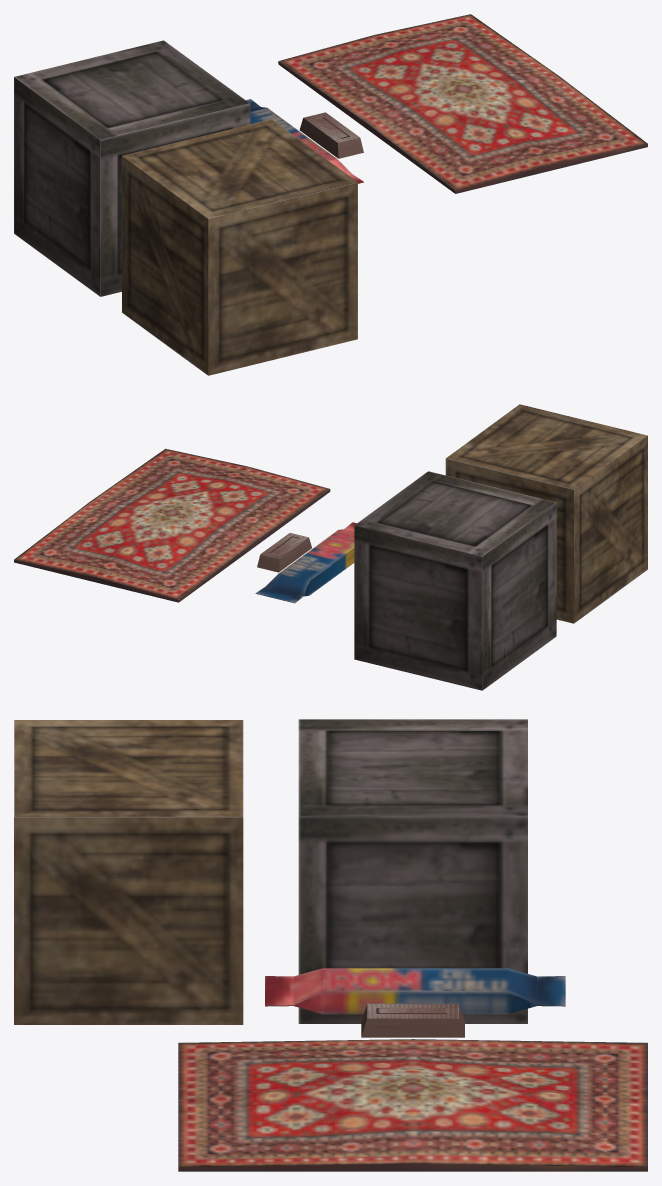
The model's file is items in PS1 style.glb.
3 views of the same model, one above another, from view 1: azimuth 30°, elevation 25°; view 2: azimuth 150°, elevation 25°; view 3: azimuth 270°, elevation 25° (orthographic). The views are drawn at different scales.
Parts seen in each view (by area): view 1: Cube.002, Cube.004, Cube.001, Cube.003, Cube; view 2: Cube.001, Cube.004, Cube.002, Cube, Cube.003; view 3: Cube.002, Cube.004, Cube.001, Cube, Cube.003.
Boxes of the visible parts, box(x1,y1,x2,y2) form: Cube.002: box(122, 119, 357, 375); Cube.004: box(278, 14, 647, 193); Cube.001: box(14, 40, 250, 296); Cube.003: box(299, 112, 363, 158); Cube: box(246, 99, 363, 183); Cube.001: box(354, 471, 556, 690); Cube.004: box(14, 448, 330, 602); Cube.002: box(445, 404, 647, 623); Cube: box(255, 522, 356, 603); Cube.003: box(257, 533, 311, 572); Cube.002: box(14, 720, 243, 1024); Cube.004: box(178, 1039, 647, 1171); Cube.001: box(298, 719, 527, 1023); Cube: box(265, 968, 565, 1014); Cube.003: box(361, 1003, 464, 1037).
Bounding box in the file's own units: 6.71 × 2.01 × 5.53.
Materials: 5 (5 with a texture image).
